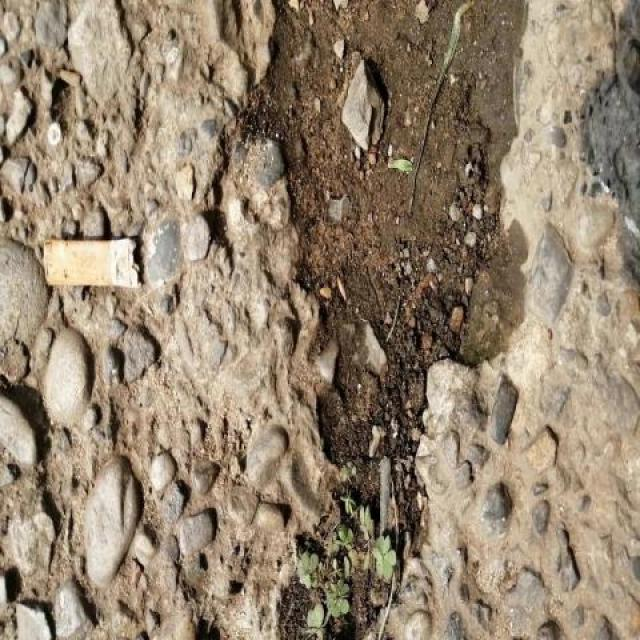non-organic waste: (38, 227, 150, 298)
